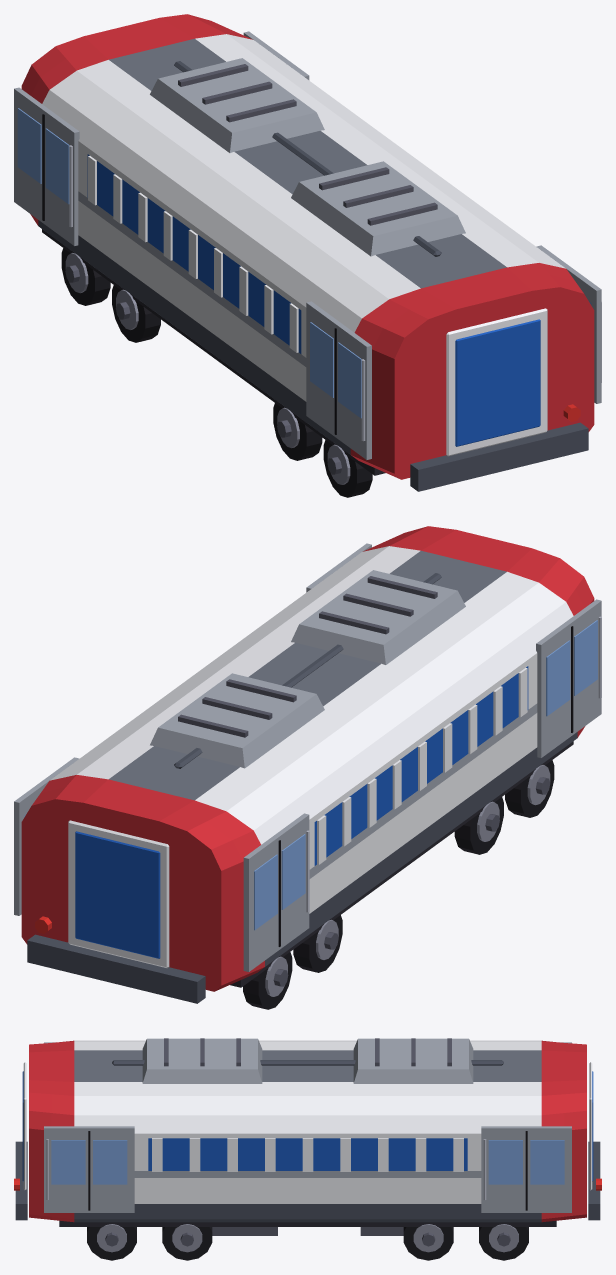
Rendered from electric-wagon.glb.
3 views of the same model, one above another, from view 1: azimuth 30°, elevation 25°; view 2: azimuth 150°, elevation 25°; view 3: azimuth 270°, elevation 25° (orthographic). The views are drawn at different scales.
Visible parts, largest first — view 1: ElectricWagon; view 2: ElectricWagon; view 3: ElectricWagon.
Boxes of the visible parts, left/top/right/bottom form: ElectricWagon: left=14, top=14, right=601, bottom=497; ElectricWagon: left=14, top=526, right=601, bottom=1009; ElectricWagon: left=14, top=1038, right=601, bottom=1260.
Size of the model in its own units: 1.38 by 1.27 by 3.9.
Materials: 1 (1 with a texture image).
